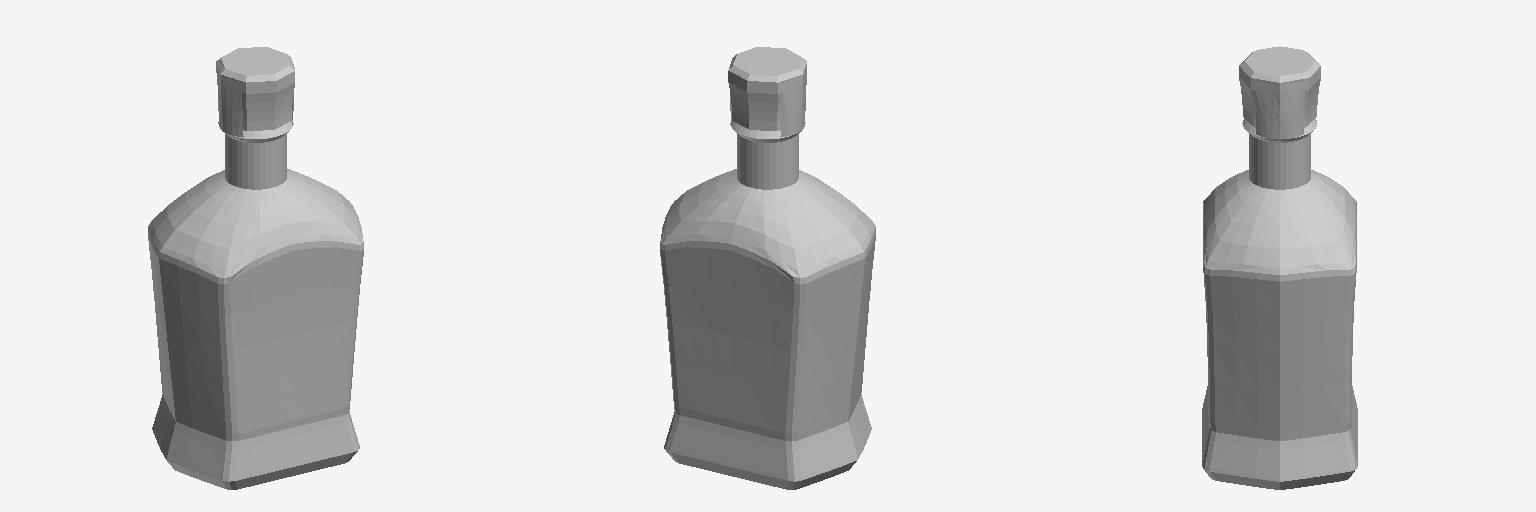
Rendered from bottle-with-label-002.obj.
The picture shows the model from 3 angles: view 1: azimuth 30°, elevation 25°; view 2: azimuth 150°, elevation 25°; view 3: azimuth 270°, elevation 25°; orthographic projection.
Visible parts, largest first — view 1: bottle, label, lid; view 2: bottle, label, lid; view 3: bottle, label, lid.
Part boxes in pixels (left/top/right/bottom): bottle: left=148, top=120, right=363, bottom=489; label: left=217, top=47, right=353, bottom=433; lid: left=216, top=47, right=294, bottom=130; bottle: left=660, top=120, right=875, bottom=489; label: left=729, top=47, right=806, bottom=184; lid: left=728, top=47, right=806, bottom=130; bottle: left=1202, top=118, right=1357, bottom=489; label: left=1207, top=46, right=1304, bottom=412; lid: left=1239, top=51, right=1320, bottom=127.
Bounding box in the file's own units: 0.1234 × 0.2361 × 0.0854.